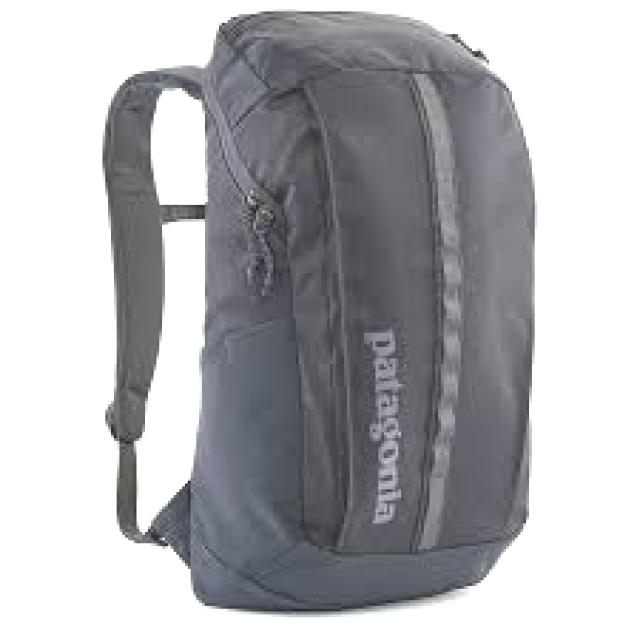backpack: (101, 7, 539, 613)
